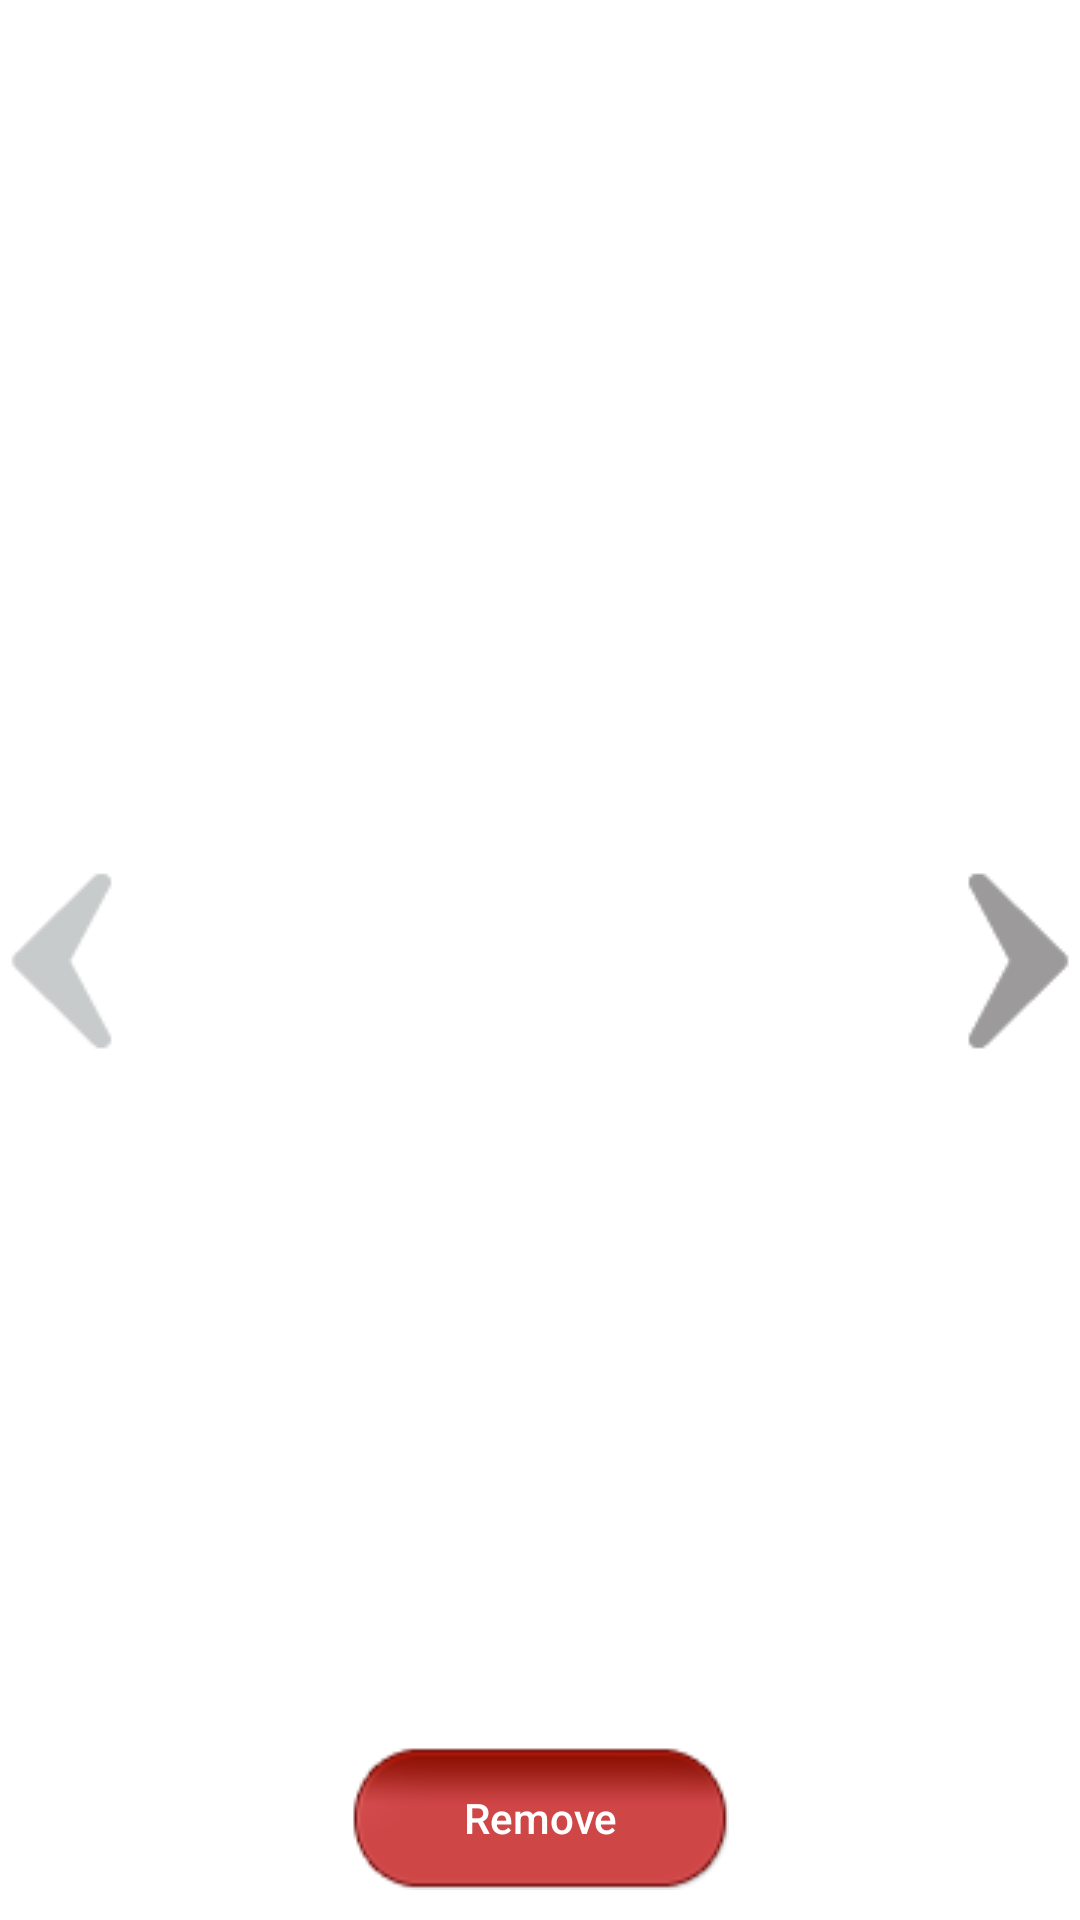

Where icons sit on this 1080px x 1920px app screen, as box(x1, y1, x2, y2):
arrow left: box(12, 874, 111, 1048)
arrow right visible: box(968, 873, 1069, 1049)
